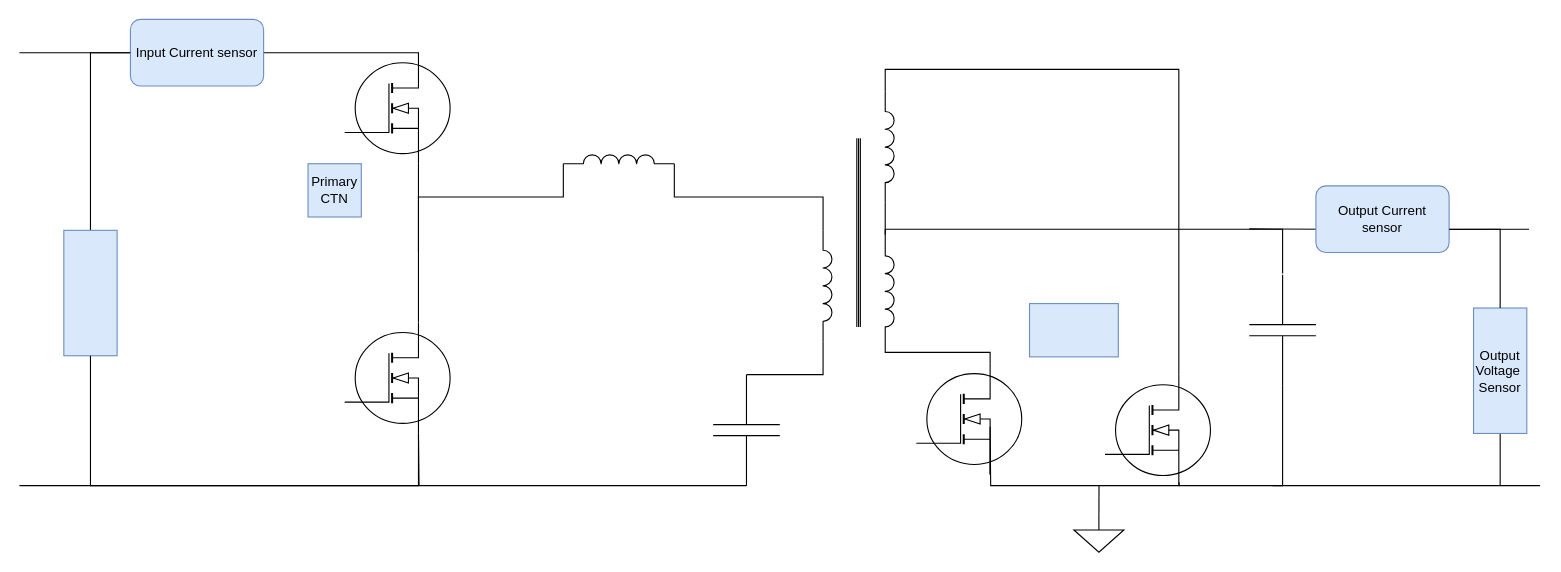
Some shapes in this 1561 by 572 pixel diagram are drawn without their labels. Each missing label, with the box of its shape:
Input Voltage Sensor: (63, 229, 117, 356)
Secondary CTN: (1028, 302, 1118, 357)
